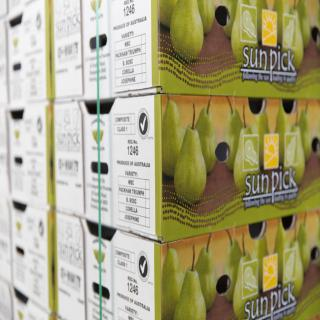Pear: (174, 122, 207, 205), (231, 247, 261, 320), (169, 0, 204, 61), (160, 246, 188, 320), (162, 98, 186, 176), (174, 265, 207, 320), (230, 0, 259, 62), (194, 104, 218, 175), (281, 234, 305, 299), (284, 121, 306, 191), (282, 6, 304, 71), (197, 244, 218, 309), (224, 234, 245, 298), (226, 108, 247, 172), (252, 107, 272, 169), (273, 220, 291, 283), (276, 100, 292, 168), (253, 234, 270, 287), (272, 0, 292, 45), (294, 0, 312, 47), (298, 221, 314, 272), (298, 105, 312, 163), (253, 0, 270, 44), (221, 0, 239, 37), (158, 0, 179, 29), (198, 0, 215, 34)
